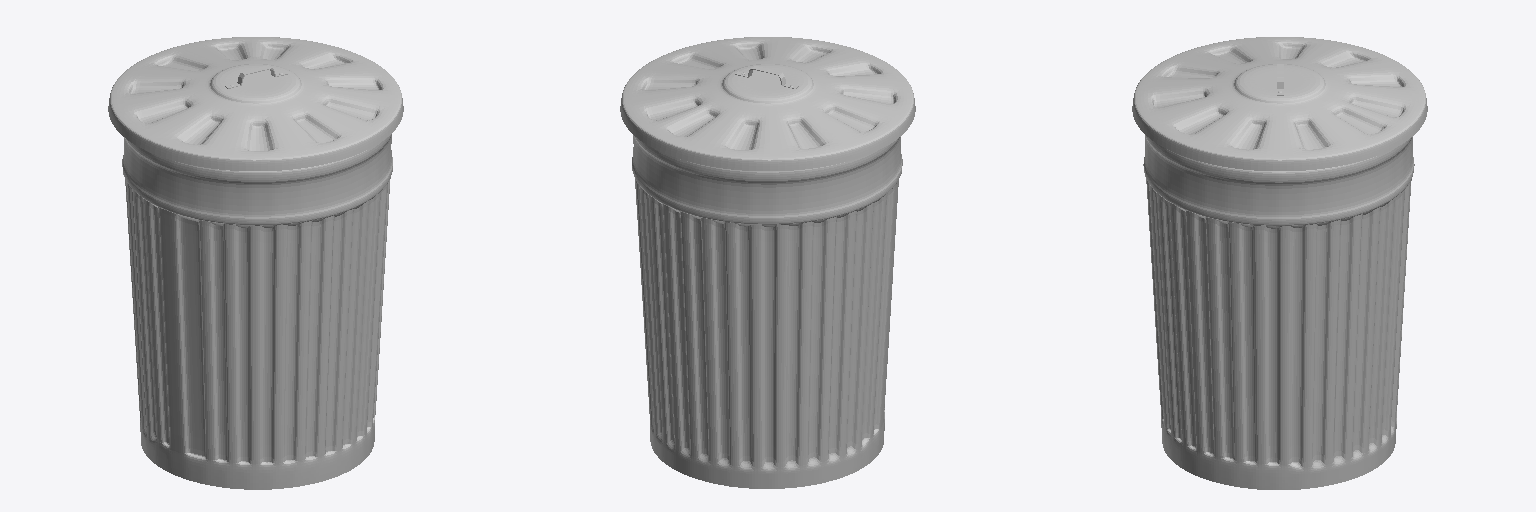
Rendered from Trashcan.obj.
3 renders of one model, left to right at view 1: azimuth 30°, elevation 25°; view 2: azimuth 150°, elevation 25°; view 3: azimuth 270°, elevation 25°, orthographic.
Visible parts, largest first — view 1: Bin_Circle, Bin_Lid_Circle.001; view 2: Bin_Circle, Bin_Lid_Circle.001; view 3: Bin_Circle, Bin_Lid_Circle.001.
Boxes of the visible parts, <box> form: Bin_Circle: <box>122,134,392,489</box>; Bin_Lid_Circle.001: <box>108,37,403,170</box>; Bin_Circle: <box>632,135,902,488</box>; Bin_Lid_Circle.001: <box>620,37,915,170</box>; Bin_Circle: <box>1143,135,1414,489</box>; Bin_Lid_Circle.001: <box>1132,37,1427,170</box>.
Size of the model in its own units: 2.57 by 3.56 by 2.57.